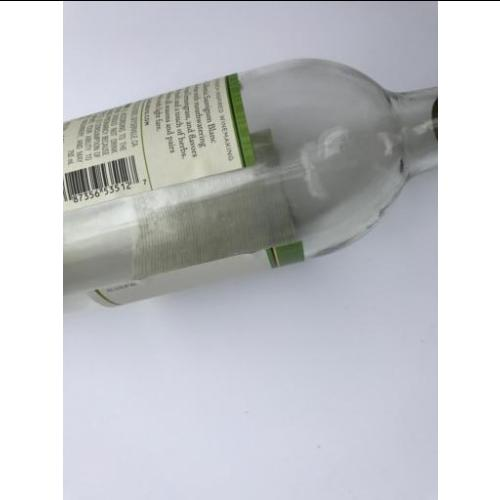glass: (63, 58, 438, 289)
